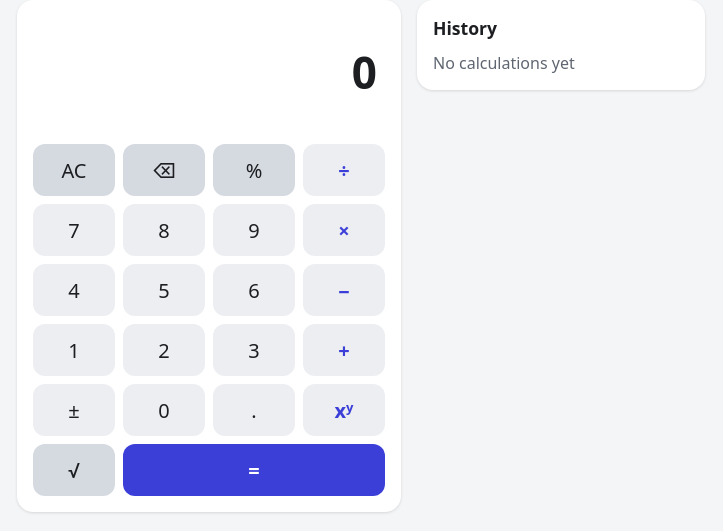
Calculator with the real API service › shows a friendly error when the proxy returns a non-JSON page
Step 1. Click the button "9" → x=254, y=230, box [213,204,295,256]
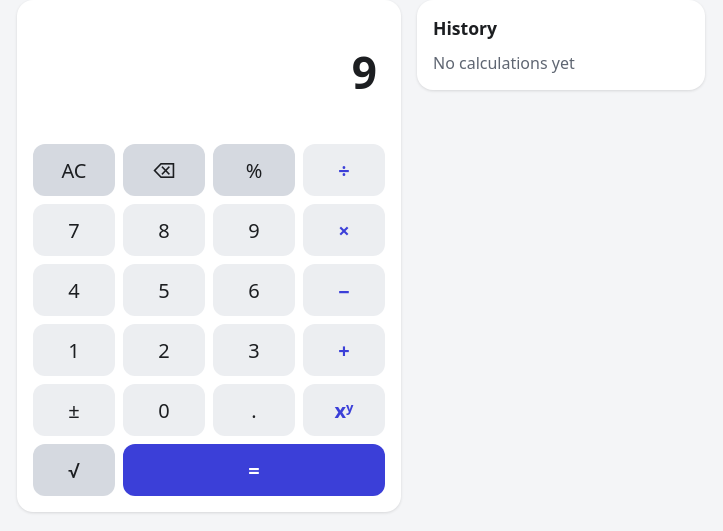
Step 2. Click the button named "square root" → x=74, y=470, box [33,444,115,496]
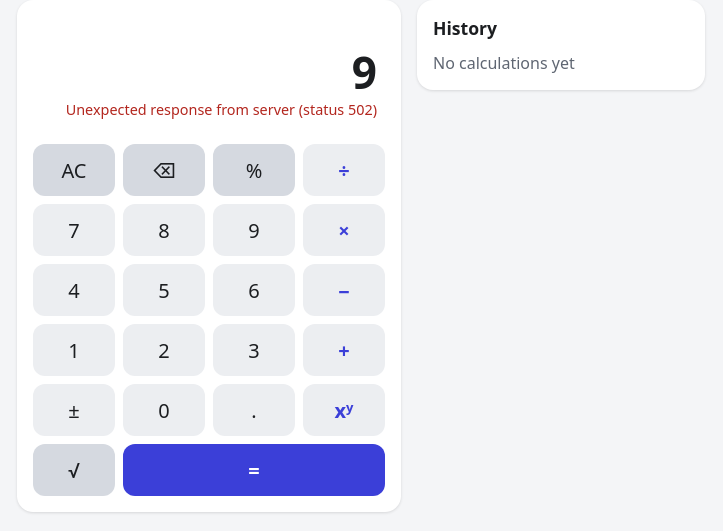
Expected: the message reads "Unexpected response from server (status 502)", [66,100,377,119]
